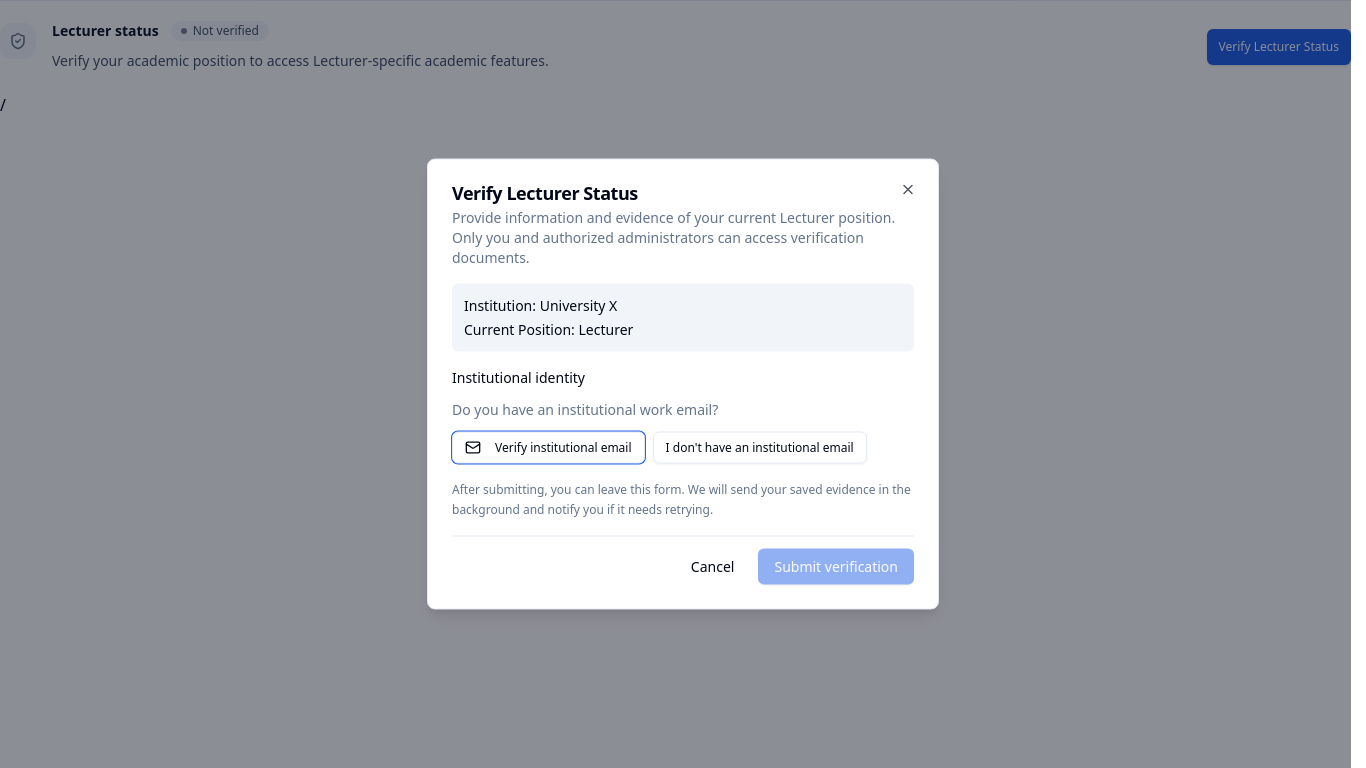
Scenario: Lecturer verification and consent controls › opens an institutional email input only after selecting email linking
Click the button "Verify institutional email" at (548, 448), box 452,432 -> 645,464
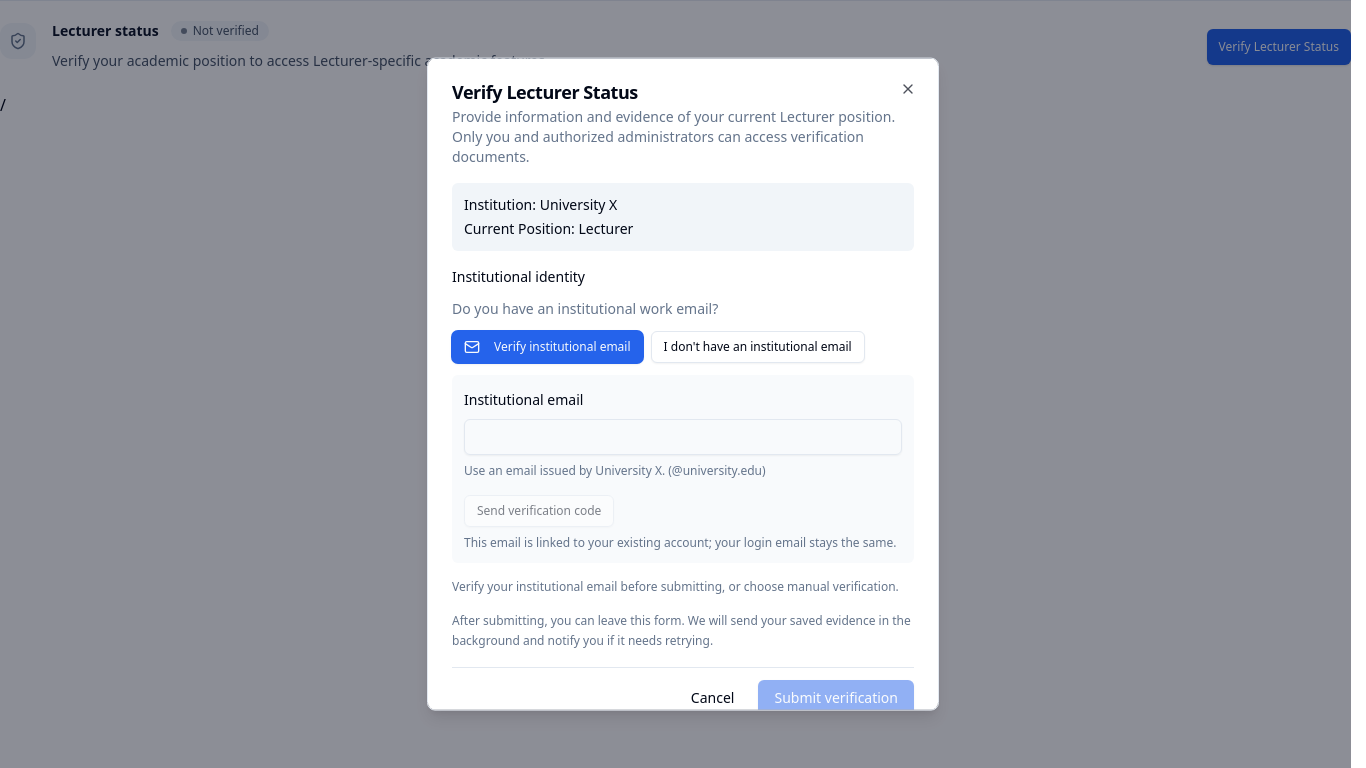
Check: the dialog shows "login email stays the same", box 464,534 -> 896,551
